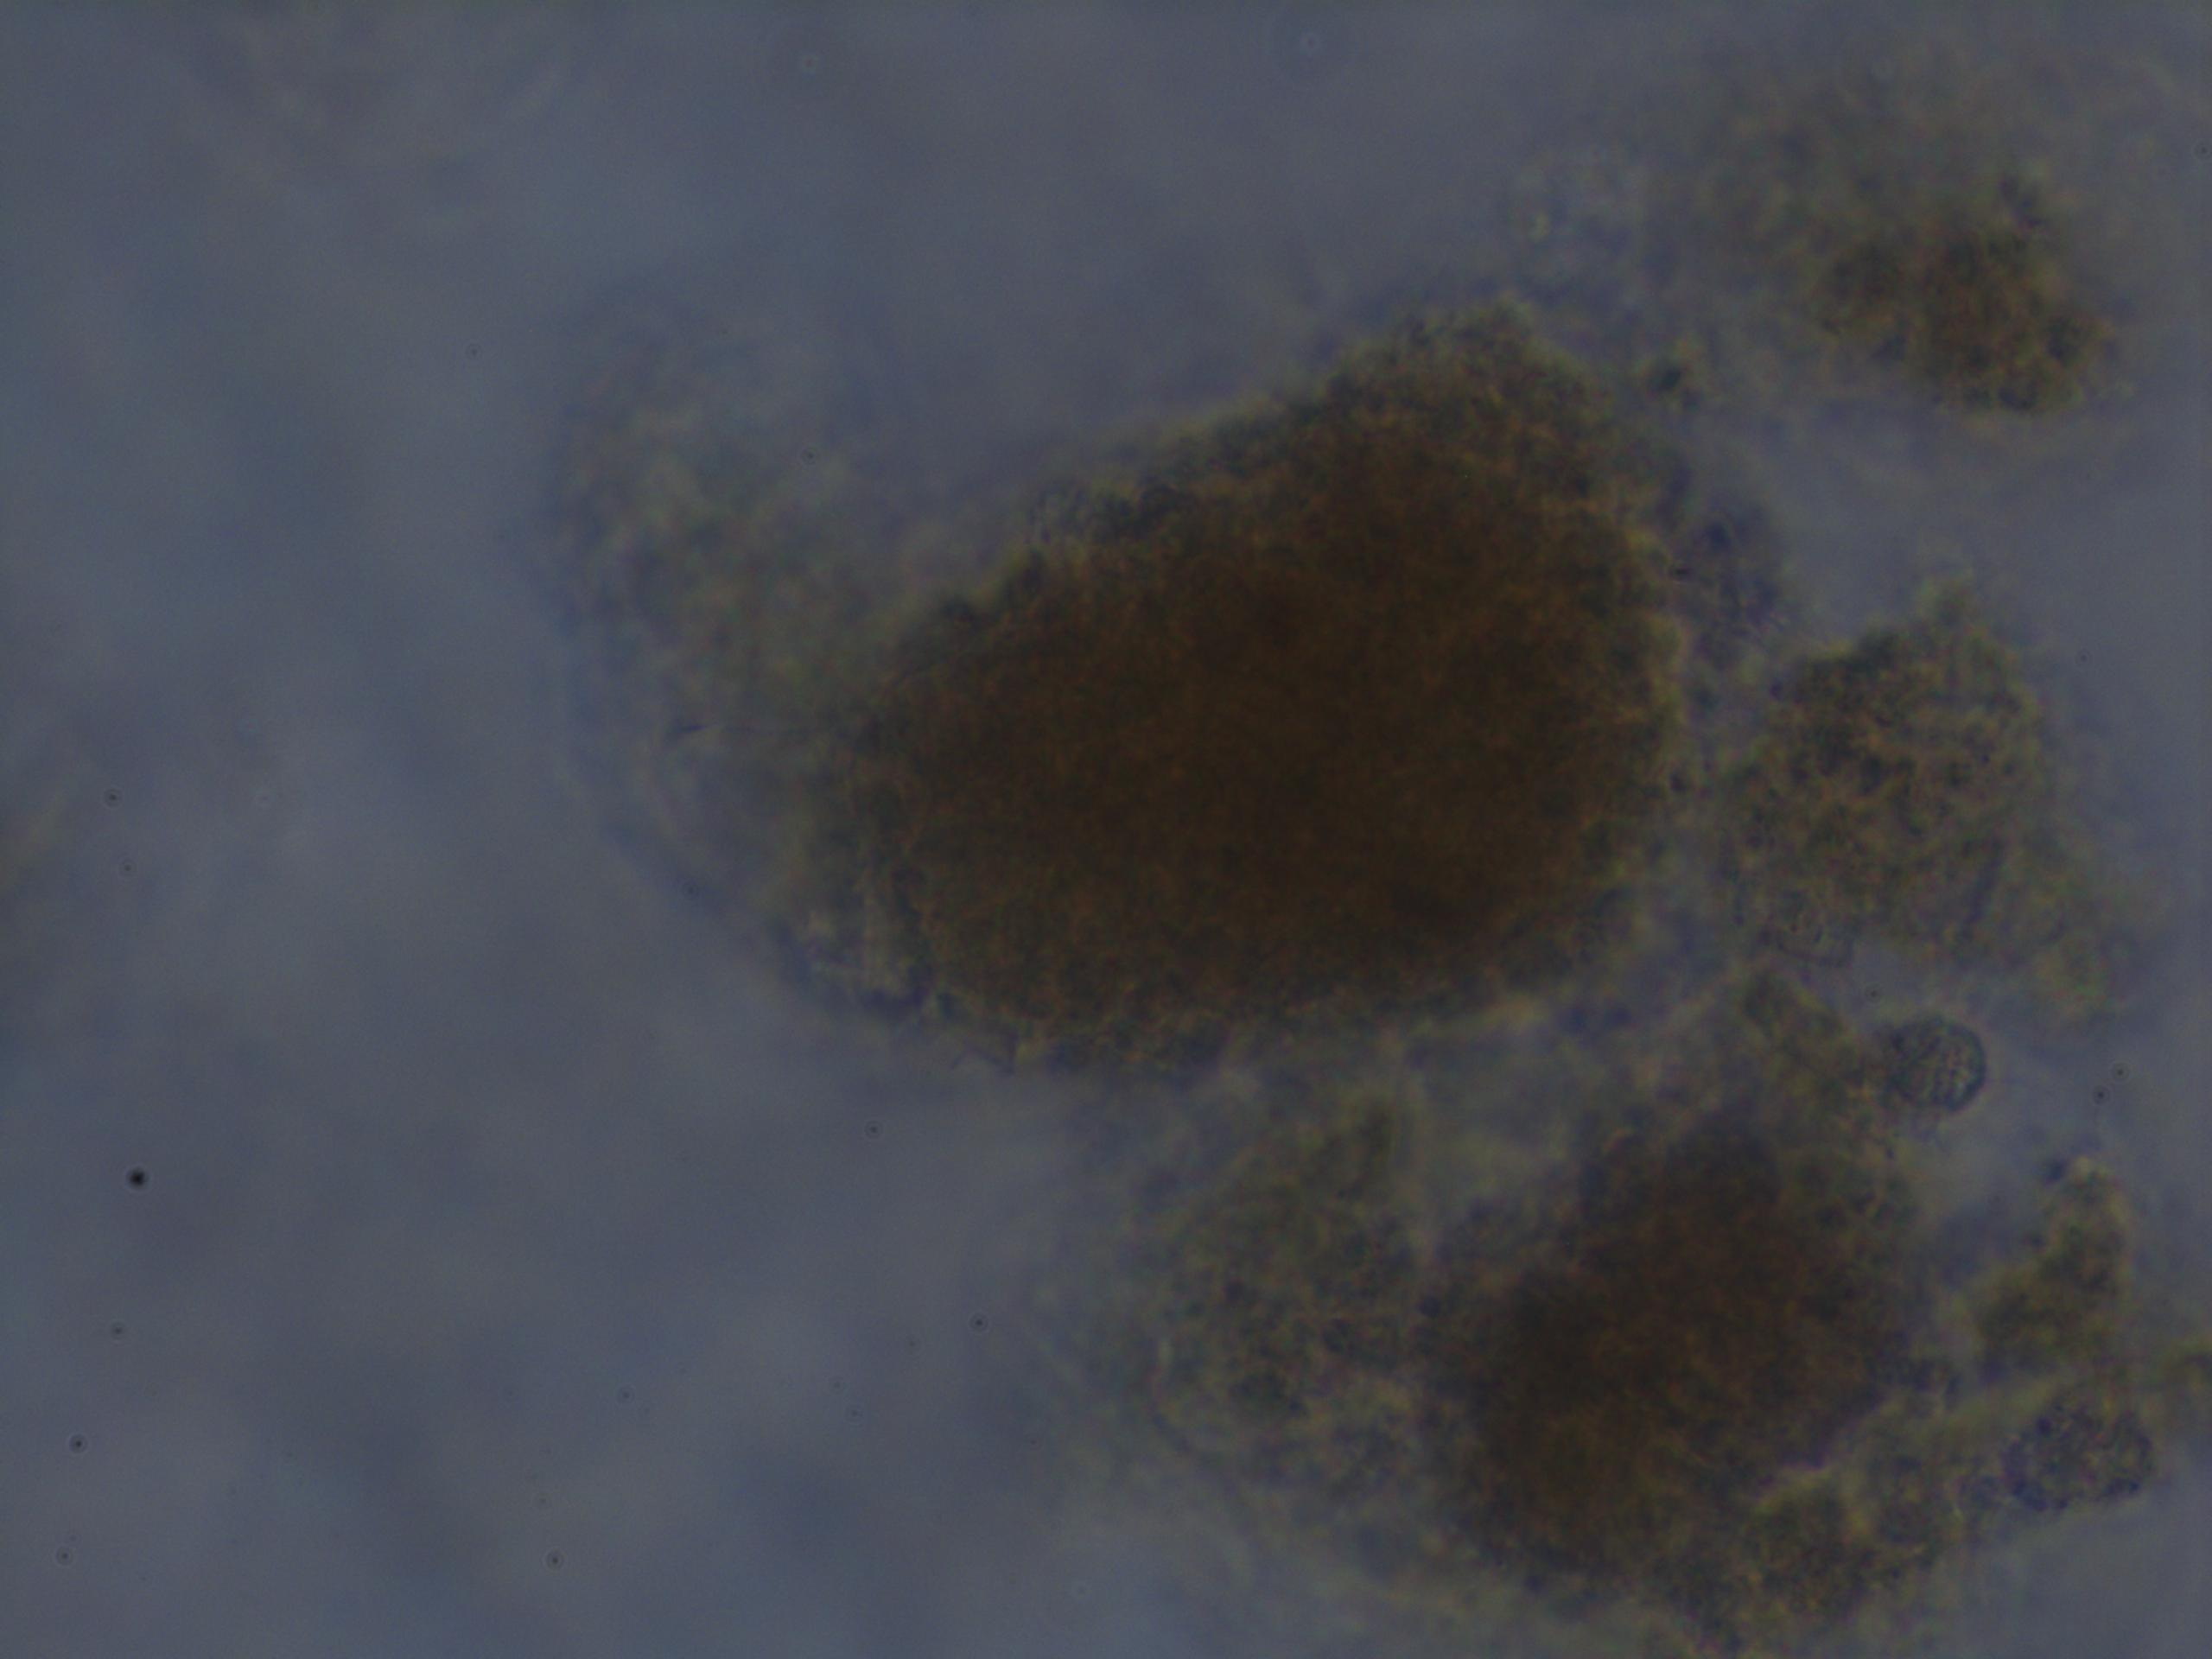spherical_floc: (827, 286, 1681, 1094)
